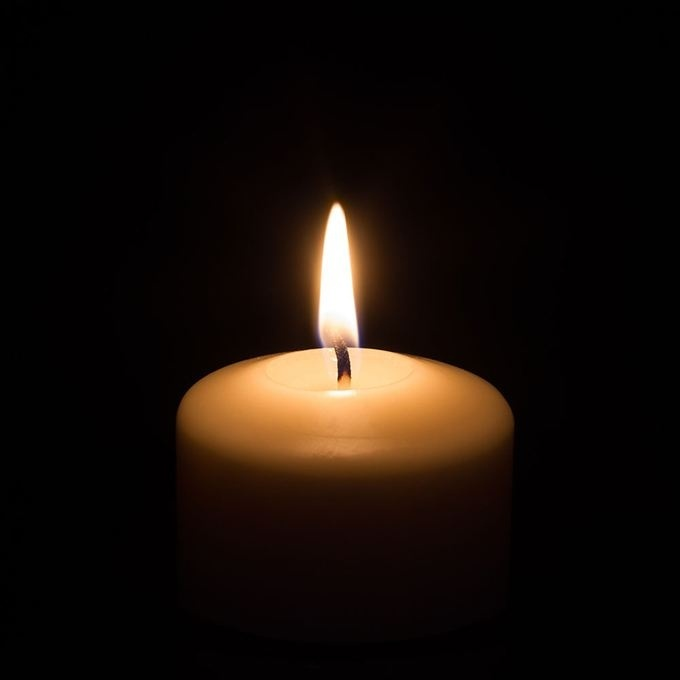fire: (311, 197, 358, 356)
